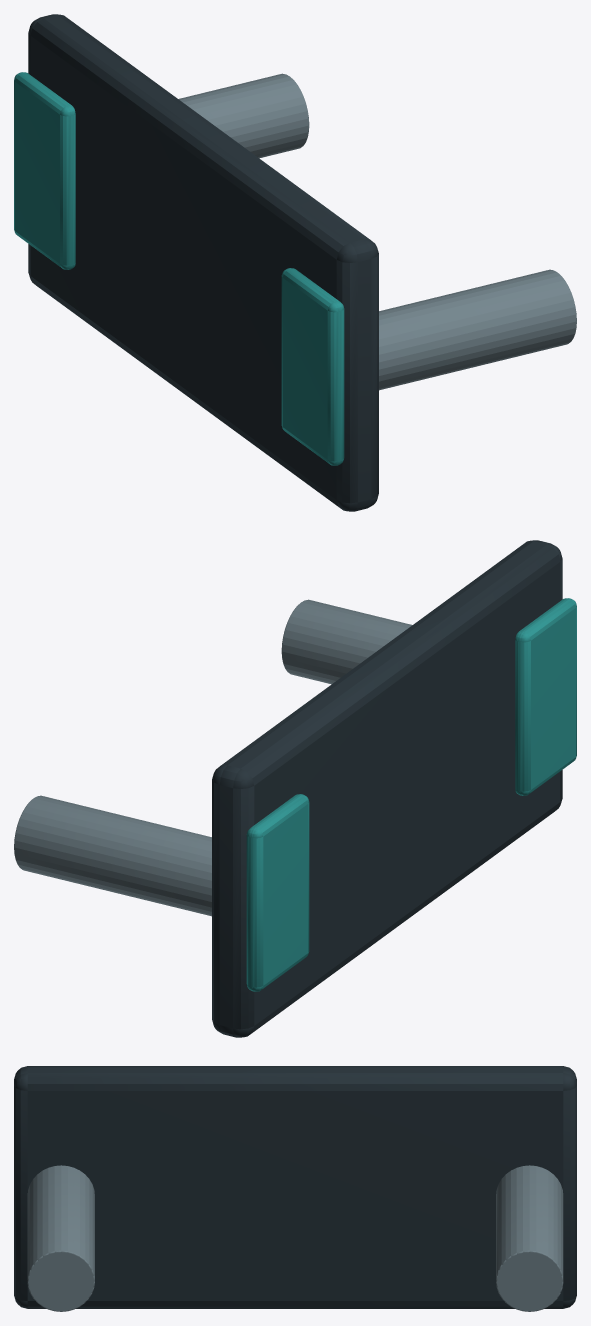
Rendered from SM_Mech_RearPiston.fbx.
3 views of the same model, one above another, from view 1: azimuth 30°, elevation 25°; view 2: azimuth 150°, elevation 25°; view 3: azimuth 270°, elevation 25° (orthographic). The views are drawn at different scales.
Parts seen in each view (by area): view 1: SM_Mech_RearPiston; view 2: SM_Mech_RearPiston; view 3: SM_Mech_RearPiston.
Boxes of the visible parts, x1,y1,x2,y2 form: SM_Mech_RearPiston: [14, 14, 576, 511]; SM_Mech_RearPiston: [14, 540, 576, 1037]; SM_Mech_RearPiston: [14, 1066, 576, 1311].
Bounding box in the file's own units: 114 × 250 × 115.
